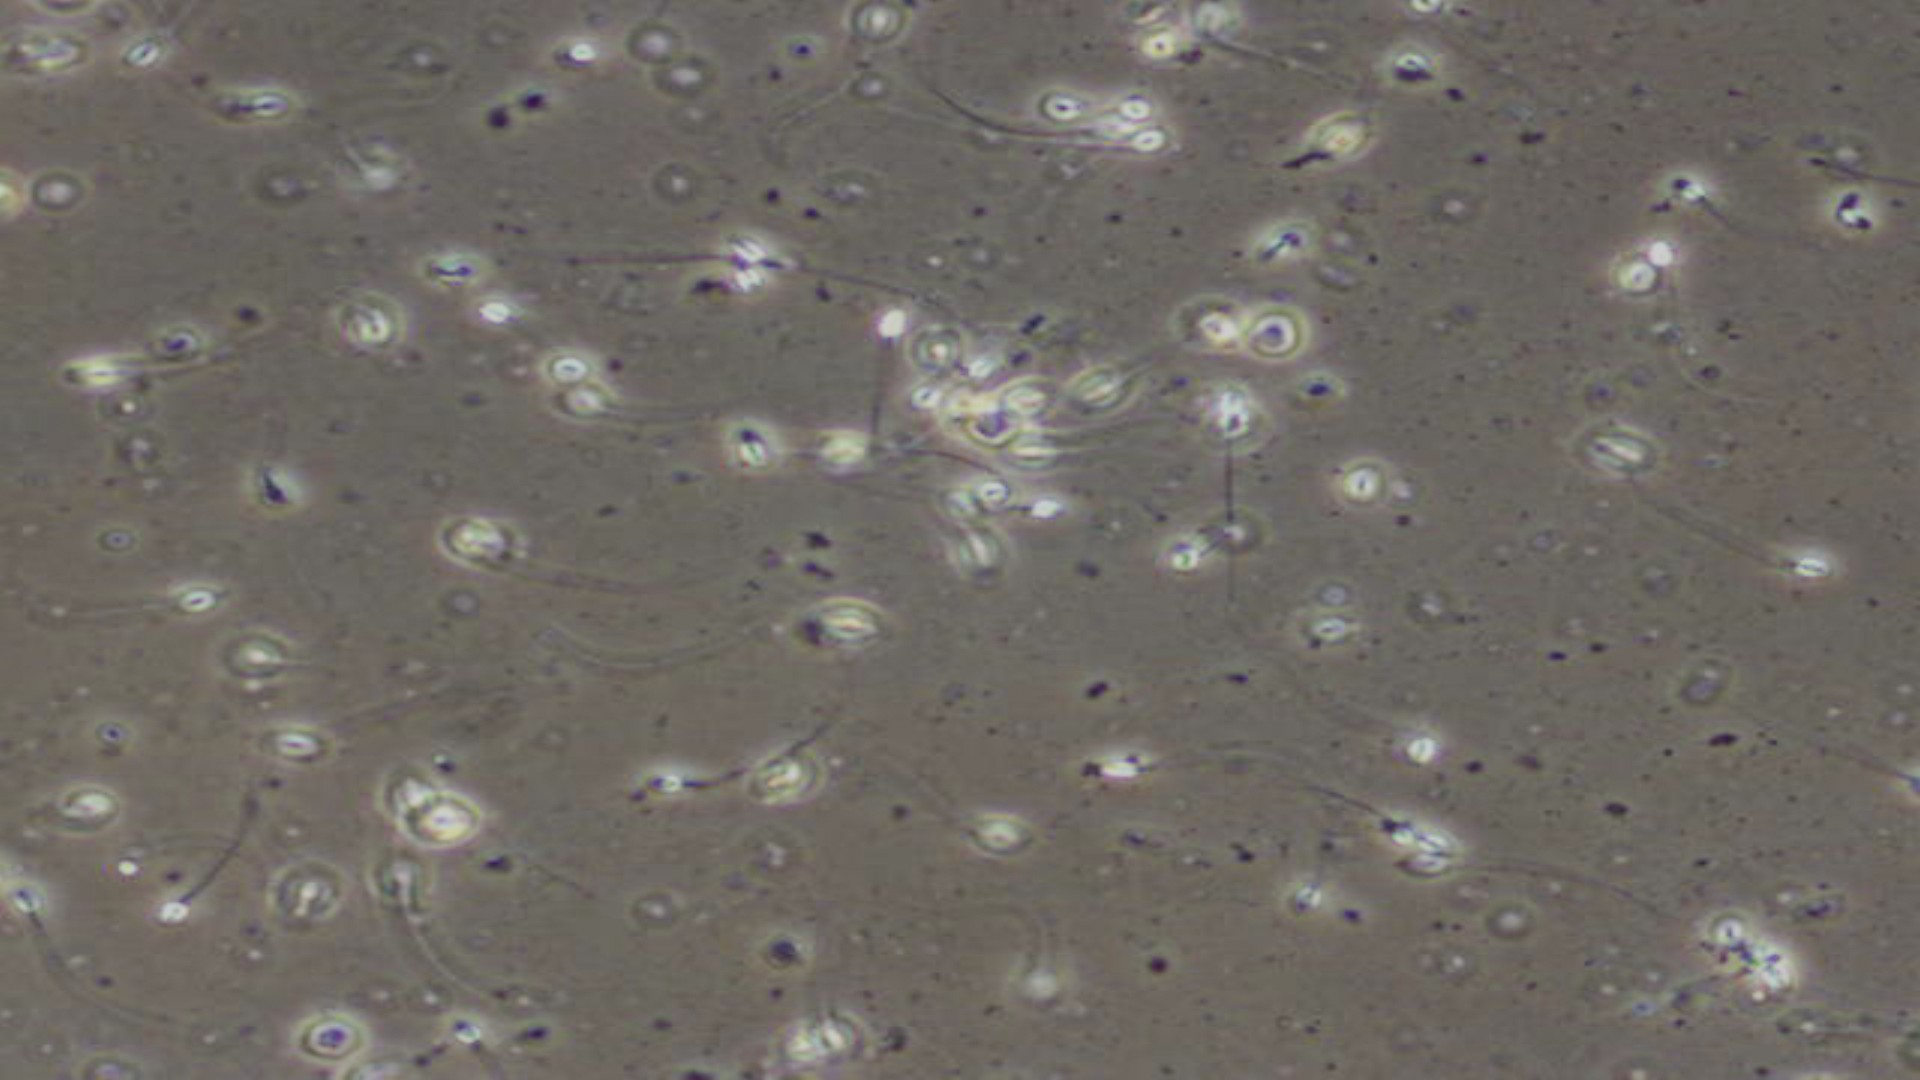sperm: (1697, 527, 1844, 591), (152, 851, 248, 934), (15, 889, 90, 986), (1662, 177, 1768, 235), (640, 764, 753, 814), (858, 305, 907, 413)
